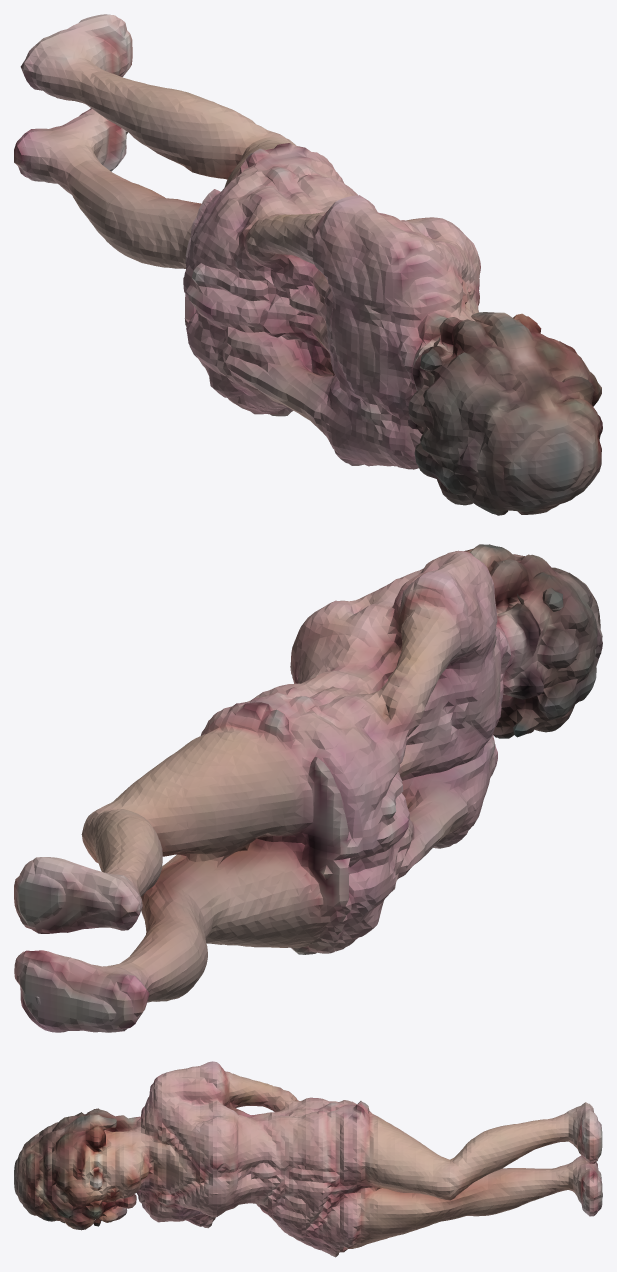
3 views of the same model, one above another, from view 1: azimuth 30°, elevation 25°; view 2: azimuth 150°, elevation 25°; view 3: azimuth 270°, elevation 25° (orthographic). The views are drawn at different scales.
Parts seen in each view (by area): view 1: world; view 2: world; view 3: world.
Part boxes in pixels (x1,y1,x2,y2): world: [14, 14, 602, 515]; world: [14, 544, 602, 1032]; world: [14, 1061, 602, 1257].
Size of the model in its own units: 0.2287 by 0.3198 by 0.9489.
